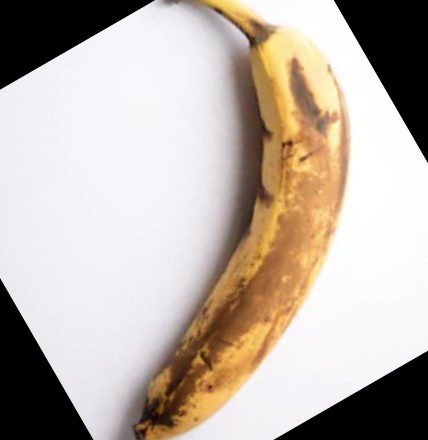rotten_banana: (131, 1, 350, 440)
